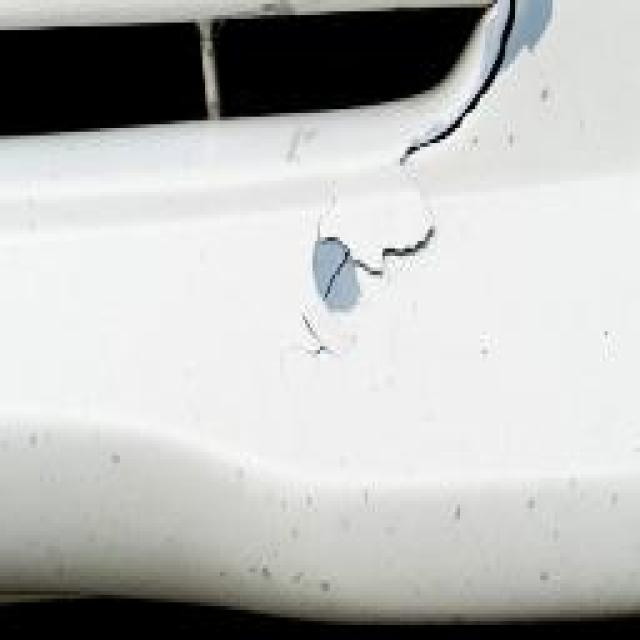Bumper: (2, 8, 640, 640)
